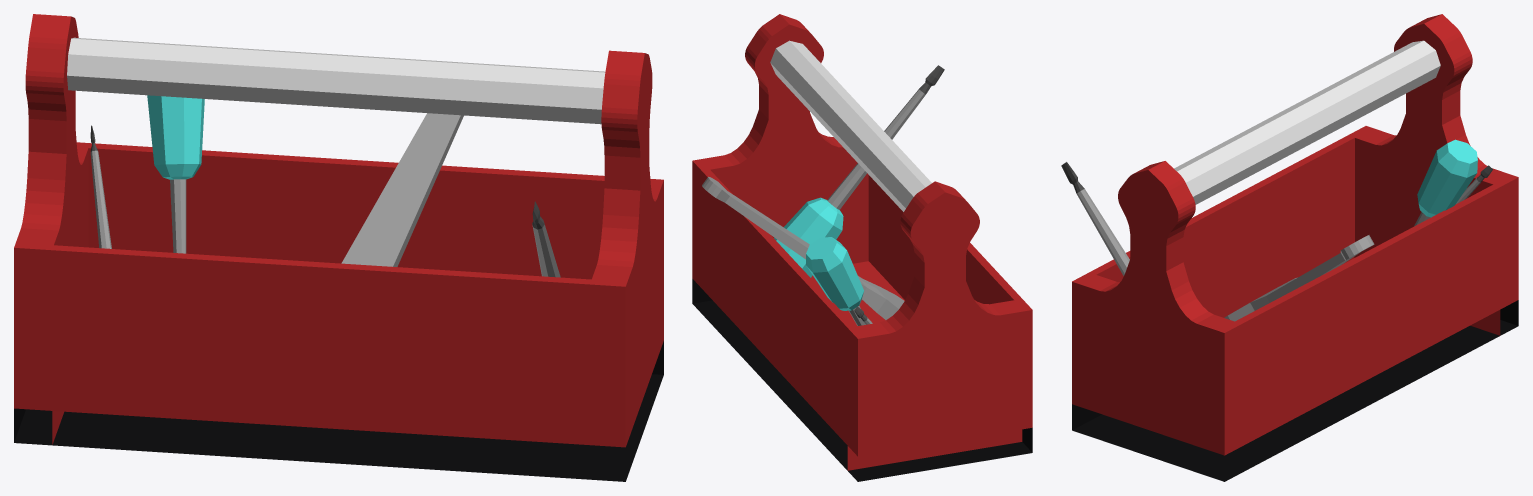
Rendered from AlexBuildingToolboxV1.fbx.
3 views of the same model, side by side, from view 1: azimuth 30°, elevation 25°; view 2: azimuth 150°, elevation 25°; view 3: azimuth 270°, elevation 25° (orthographic). The views are drawn at different scales.
Visible parts, largest first — view 1: Alex ToolBox; view 2: Alex ToolBox; view 3: Alex ToolBox.
Boxes of the visible parts, x1,y1,x2,y2 form: Alex ToolBox: [14, 14, 663, 481]; Alex ToolBox: [692, 14, 1032, 481]; Alex ToolBox: [1061, 14, 1518, 481].
Size of the model in its own units: 146 by 156 by 101.
